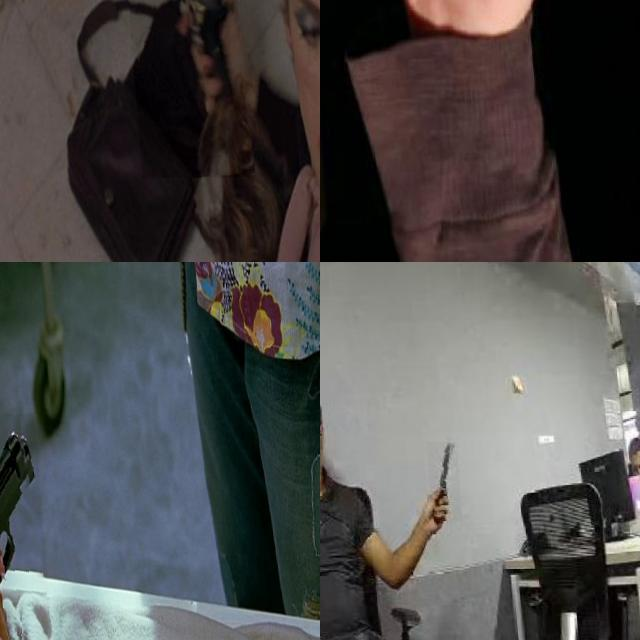-: (320, 0, 517, 151), (420, 442, 456, 522)
gun-knife-thesis - v11 Yolov5 augmented: (120, 0, 245, 179), (0, 414, 70, 640)
